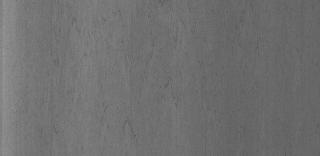silk spot: (90, 3, 214, 138)
